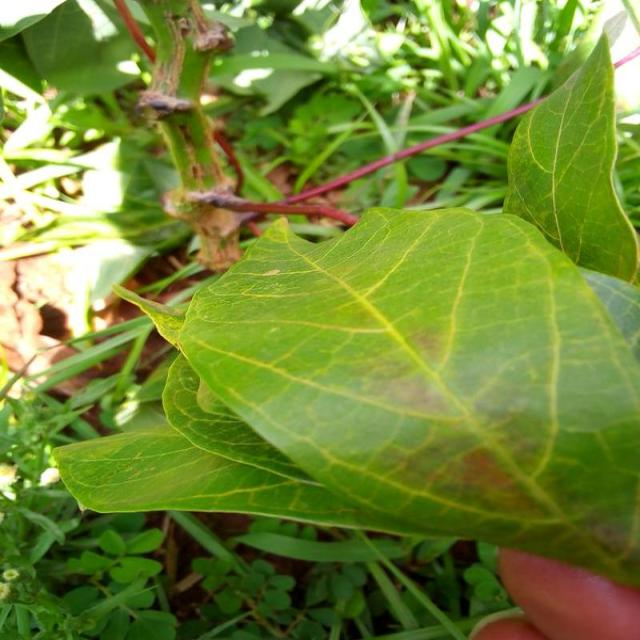cassava leaf: (54, 203, 640, 588), (502, 28, 640, 285)
